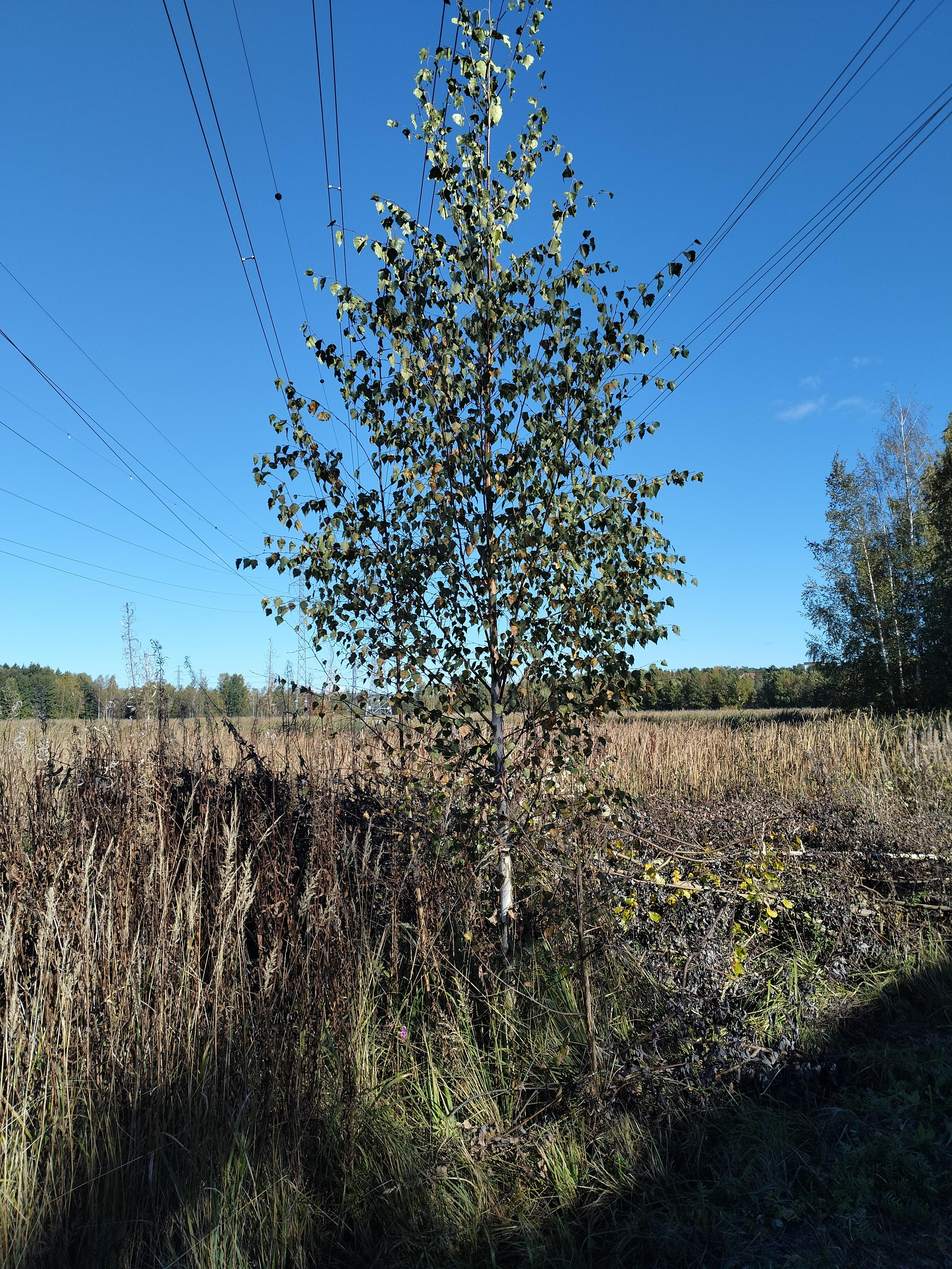Birch: (232, 0, 711, 957)
